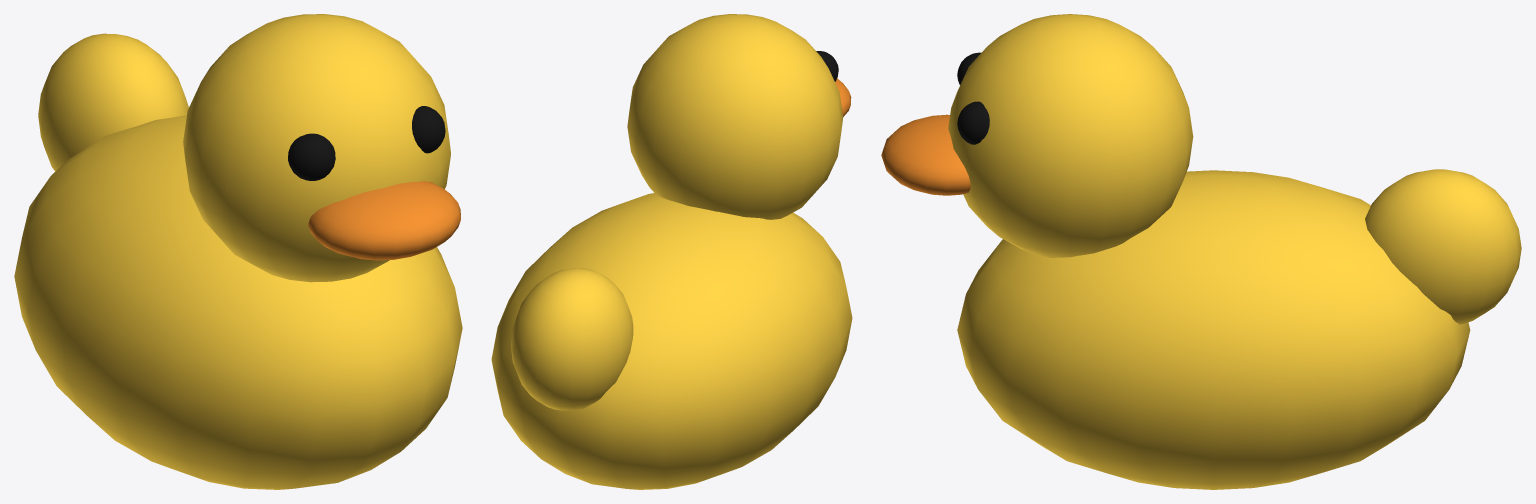
File: rubber_duck.fbx
3 views of the same model, side by side, from view 1: azimuth 30°, elevation 25°; view 2: azimuth 150°, elevation 25°; view 3: azimuth 270°, elevation 25° (orthographic). The views are drawn at different scales.
Visible parts, largest first — view 1: Duck; view 2: Duck; view 3: Duck.
Part boxes in pixels (<box>): Duck: <box>14,14,462,489</box>; Duck: <box>491,14,852,489</box>; Duck: <box>881,14,1521,489</box>.
Size of the model in its own units: 0.09 by 0.1195 by 0.156.
